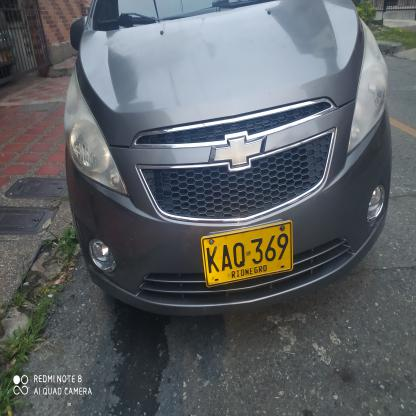placa: (192, 219, 302, 290)
